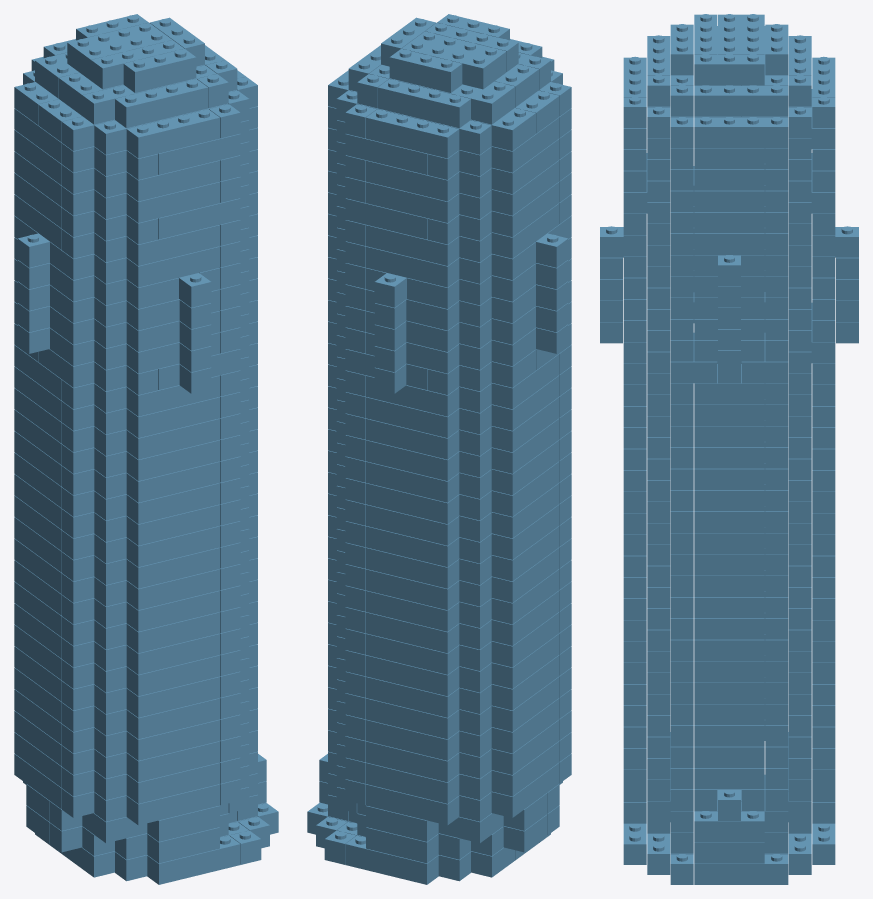
The model's file is 206_pot_L1.glb.
3 views of the same model, side by side, from view 1: azimuth 30°, elevation 25°; view 2: azimuth 150°, elevation 25°; view 3: azimuth 270°, elevation 25° (orthographic).
Size of the model in its own units: 10.98 by 37.13 by 10.98.
